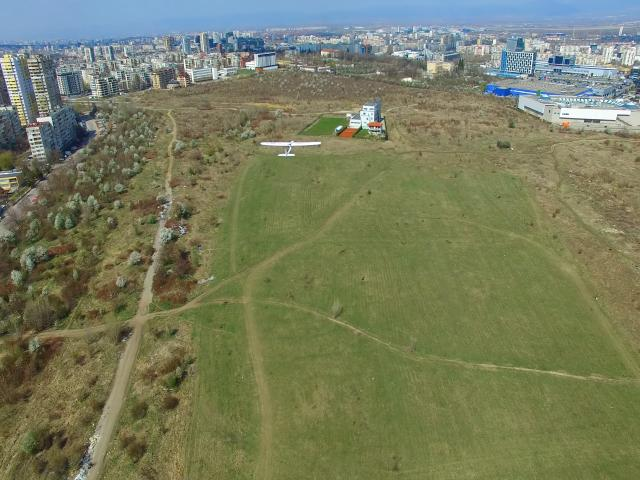plane: (260, 140, 324, 156)
